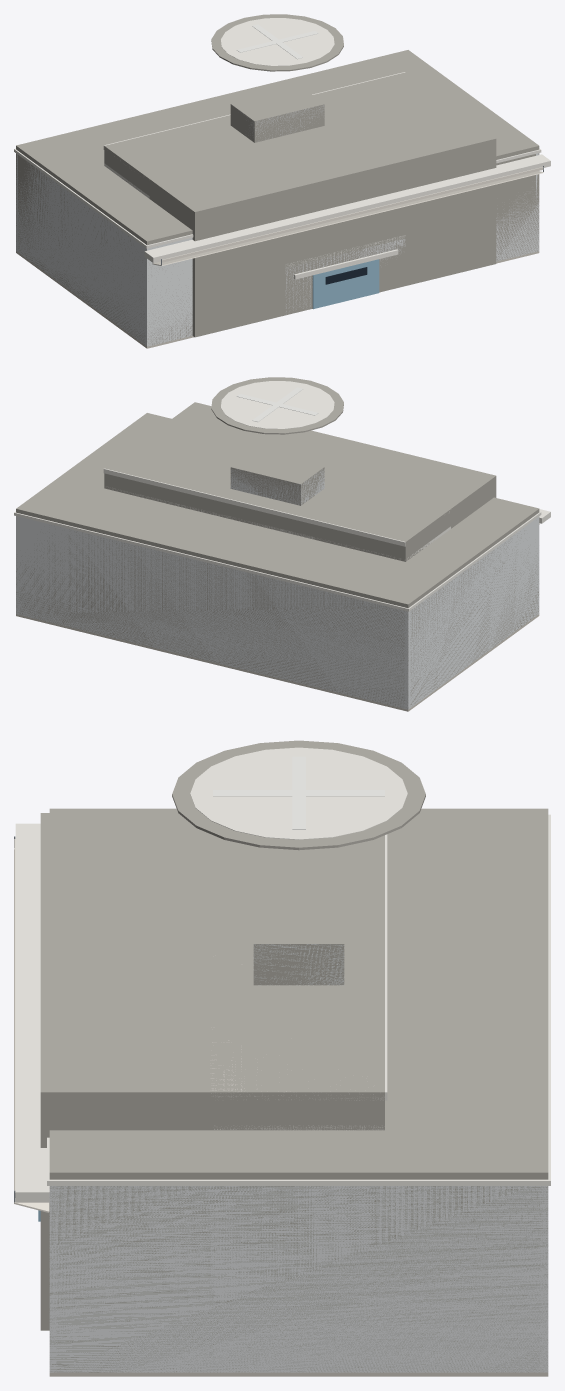
File: BLD_Hospital.fbx
The picture shows the model from 3 angles, top to bottom: view 1: azimuth 30°, elevation 25°; view 2: azimuth 150°, elevation 25°; view 3: azimuth 270°, elevation 25°; orthographic projection. The views are drawn at different scales.
Parts seen in each view (by area): view 1: BLD_Hospital__COL_Main.001, BLD_Hospital__BODY, BLD_Hospital__COL_Main, BLD_Hospital__HELIPAD, BLD_Hospital__MAIN, BLD_Hospital__COL_Wing; view 2: BLD_Hospital__BODY, BLD_Hospital__COL_Main.001, BLD_Hospital__COL_Main, BLD_Hospital__HELIPAD, BLD_Hospital__MAIN, BLD_Hospital__COL_Wing; view 3: BLD_Hospital__BODY, BLD_Hospital__COL_Main.001, BLD_Hospital__COL_Main, BLD_Hospital__HELIPAD, BLD_Hospital__COL_Wing, BLD_Hospital__MAIN.
Boxes of the visible parts, left/top/right/bottom form: BLD_Hospital__COL_Main.001: left=104, top=72, right=496, bottom=337; BLD_Hospital__BODY: left=14, top=50, right=550, bottom=348; BLD_Hospital__COL_Main: left=16, top=146, right=539, bottom=346; BLD_Hospital__HELIPAD: left=211, top=14, right=343, bottom=71; BLD_Hospital__MAIN: left=103, top=72, right=409, bottom=336; BLD_Hospital__COL_Wing: left=230, top=87, right=324, bottom=142; BLD_Hospital__BODY: left=14, top=413, right=550, bottom=711; BLD_Hospital__COL_Main.001: left=104, top=402, right=496, bottom=561; BLD_Hospital__COL_Main: left=16, top=509, right=539, bottom=708; BLD_Hospital__HELIPAD: left=211, top=377, right=343, bottom=434; BLD_Hospital__MAIN: left=103, top=468, right=450, bottom=560; BLD_Hospital__COL_Wing: left=230, top=449, right=324, bottom=505; BLD_Hospital__BODY: left=14, top=808, right=550, bottom=1376; BLD_Hospital__COL_Main.001: left=40, top=813, right=384, bottom=1330; BLD_Hospital__COL_Main: left=49, top=1172, right=548, bottom=1372; BLD_Hospital__HELIPAD: left=172, top=740, right=425, bottom=850; BLD_Hospital__COL_Wing: left=253, top=879, right=344, bottom=985; BLD_Hospital__MAIN: left=38, top=834, right=387, bottom=1221.
Size of the model in its own units: 38.5 by 19.56 by 23.7.
